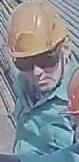goggles: (11, 55, 61, 72)
helmet: (6, 0, 68, 58), (67, 68, 79, 116)
vest: (9, 71, 79, 162)
